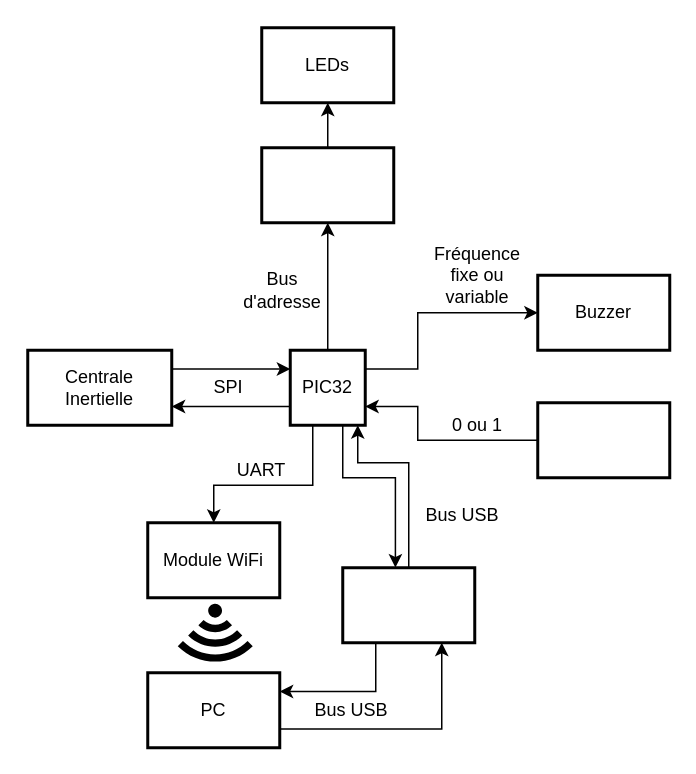
Image size: 696x774. Some labels were removed from this diagram. Each missing label, with the centre of its shape:
Commandes Boutons poussoirs: point 603,439
Interface USB: point 408,605
Multiplexeur LED: point 327,185
